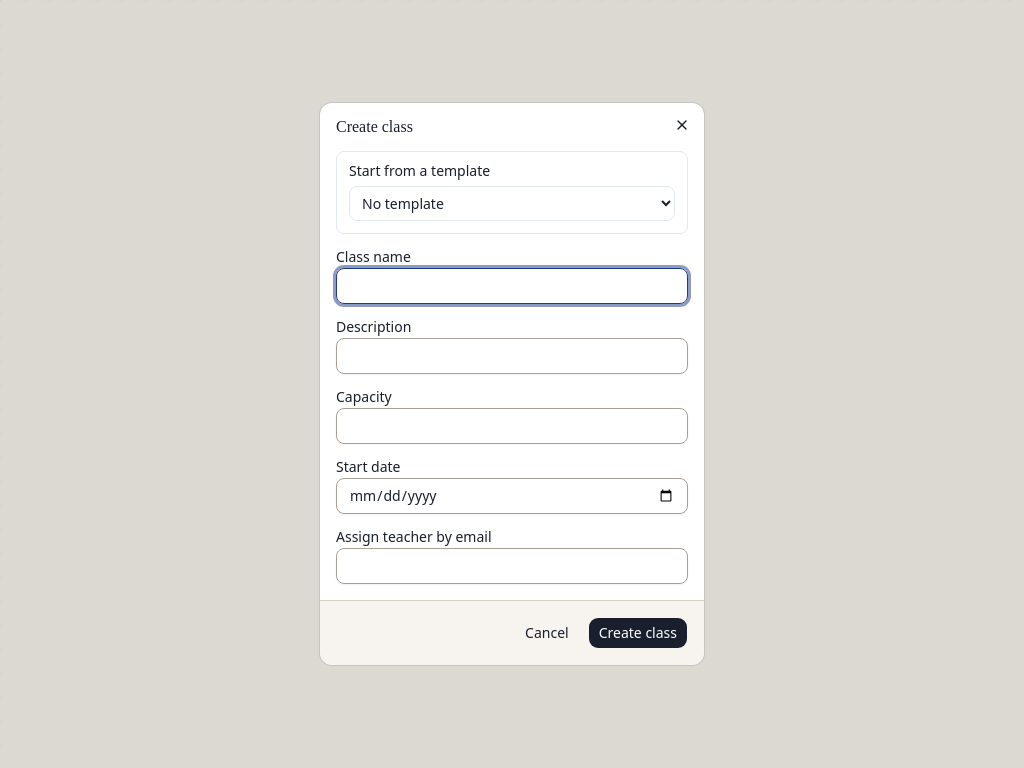
ClassFormDialog › selecting a template does NOT clobber a user-typed name (CR-3-1-9b)
Type "My Own Class Name" into the field with test id "class-field-name" at point(512, 286), box [336,268,688,304]
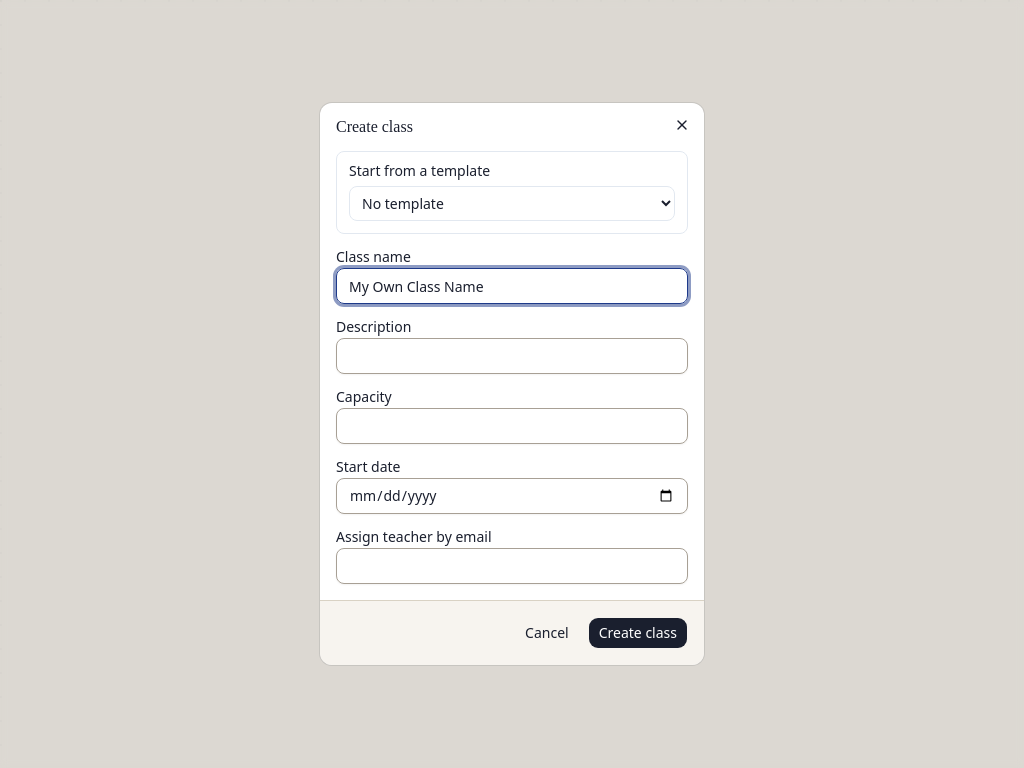
Select "IELTS Writing 6.5" in the dropdown with test id "class-template-picker" at point(512, 204), box [349,186,675,221]
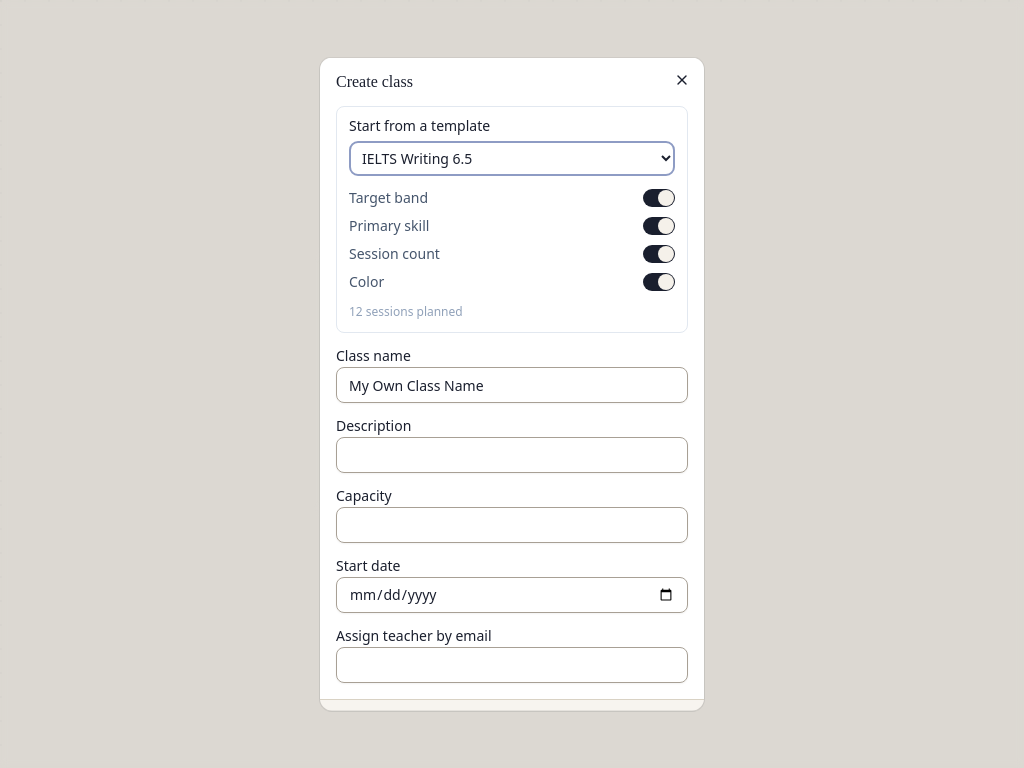
Expected: the element with test id "class-template-toggles" is shown, [349,184,675,320]
